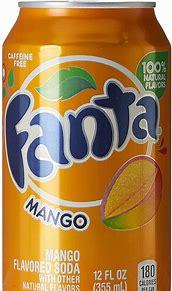metal: (3, 2, 171, 290)
